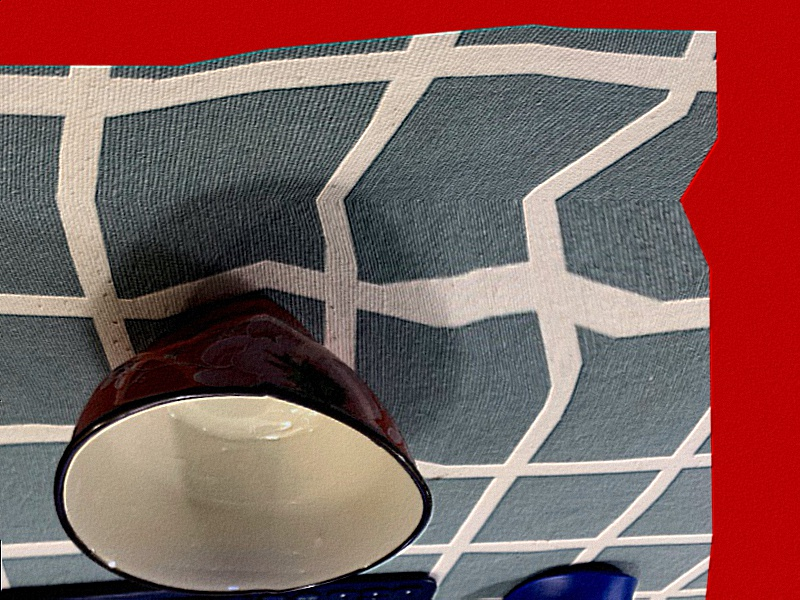bowl_small: (27, 306, 434, 599)
